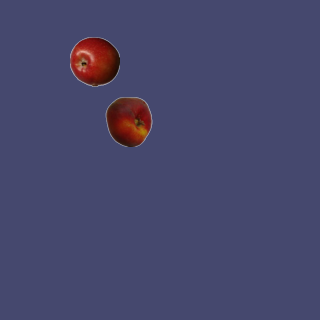Apple Braeburn: (69, 36, 119, 86)
Nectarine Flat: (103, 96, 153, 146)
